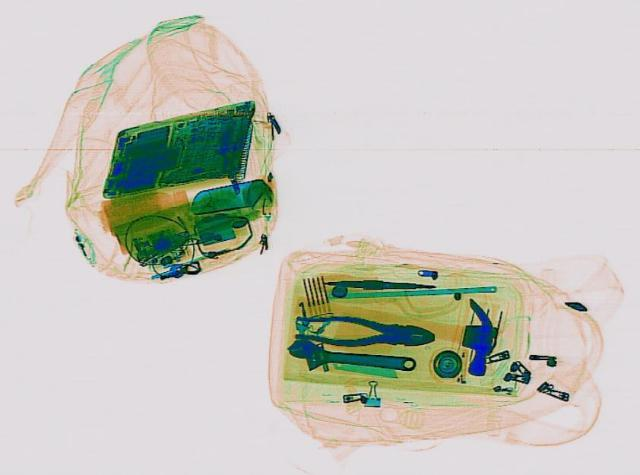Pliers: (290, 310, 436, 351)
Wrench: (284, 334, 418, 378)
